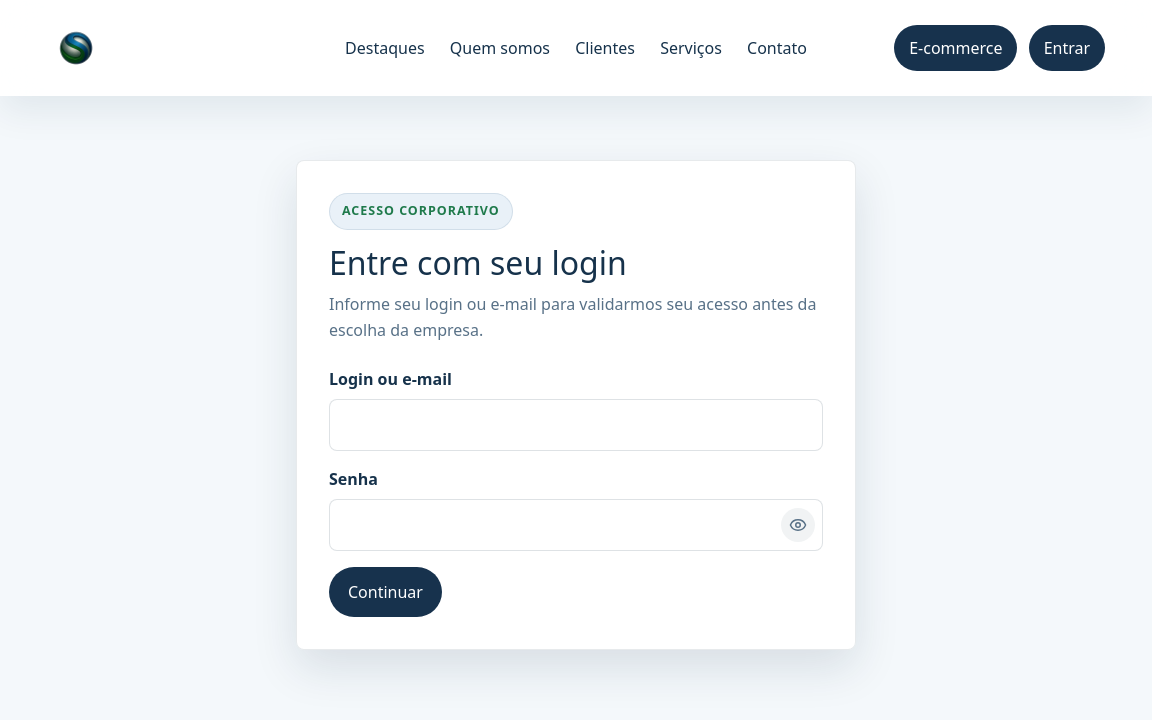
Scenario: autenticação no navegador › autentica, seleciona a empresa e abre o Hub
Step 1. Type "admin.cypress" into the field named "loginOrEmail" → point(576, 425), box [329, 399, 823, 451]
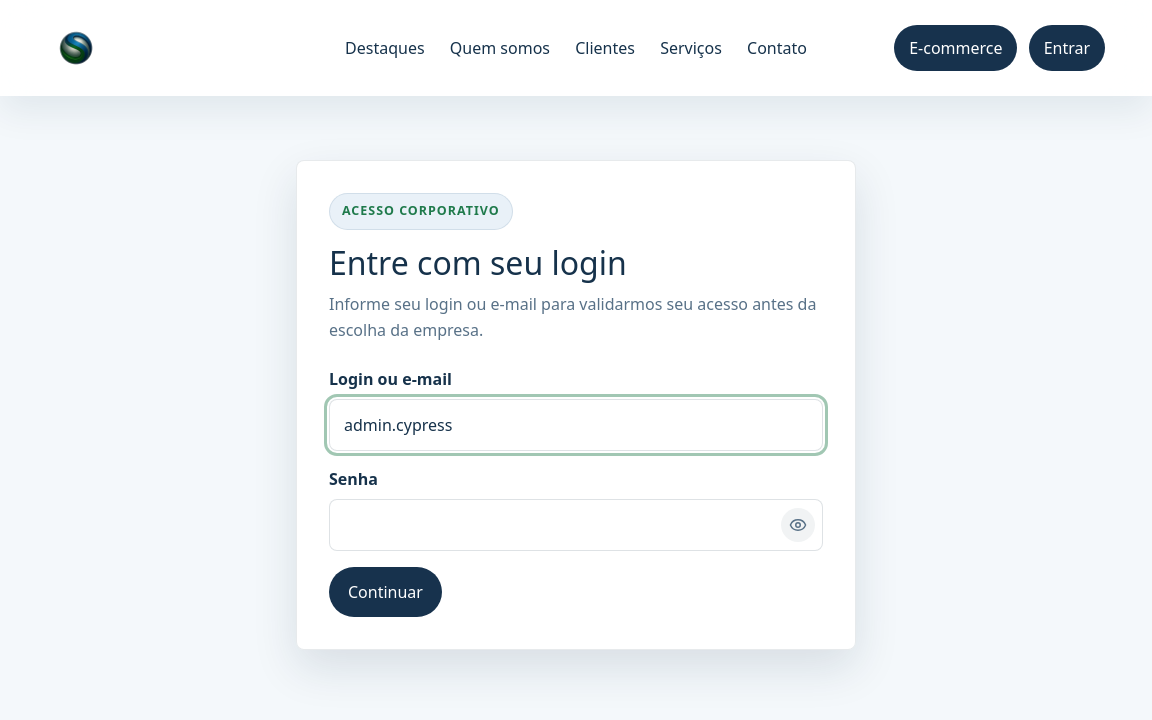
Step 2. Type "segredo-cypress" into the password field named "password" → point(576, 525), box [329, 499, 823, 551]
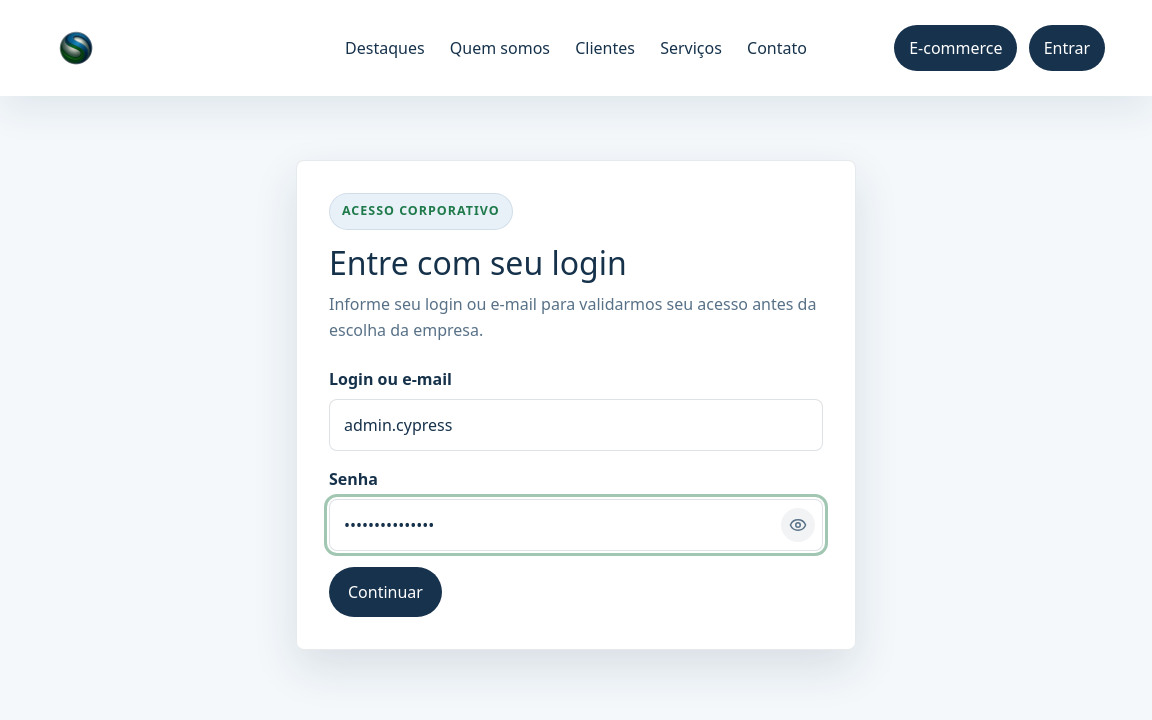
Step 3. Click the button "Continuar" → point(386, 592), box [329, 567, 442, 617]
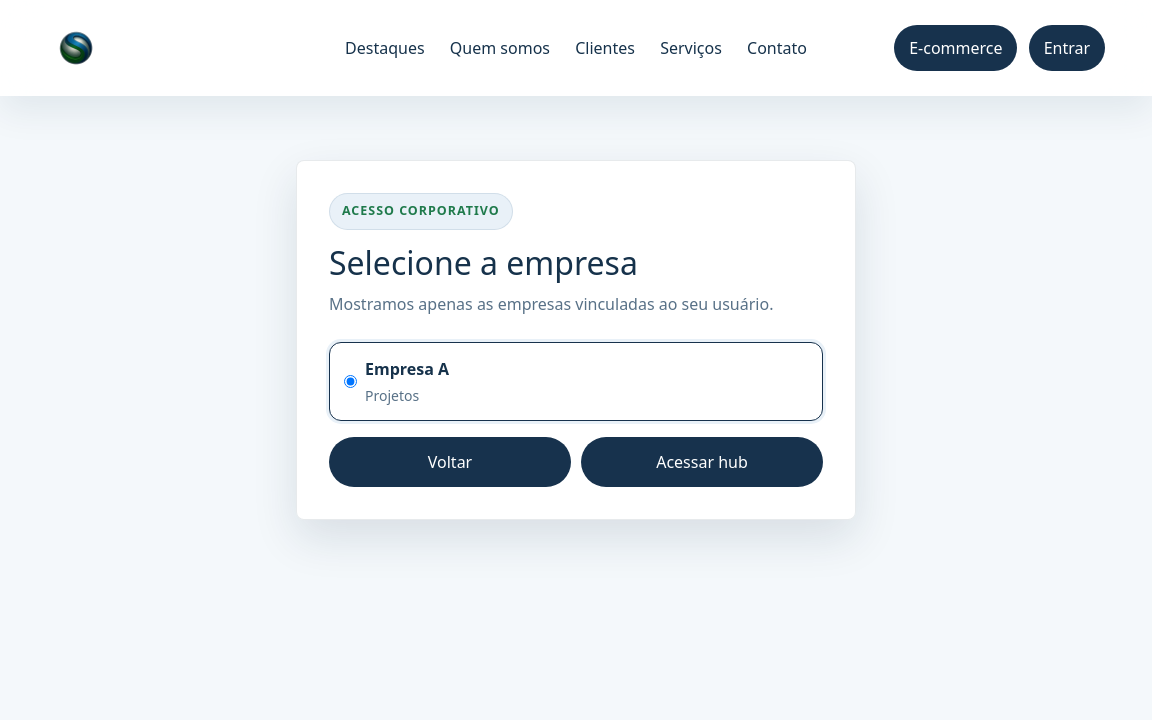
Result: the text "Empresa A" is shown at [365, 358, 449, 380]
Step 4. Click the button "Acessar hub" → point(702, 462), box [581, 437, 823, 487]
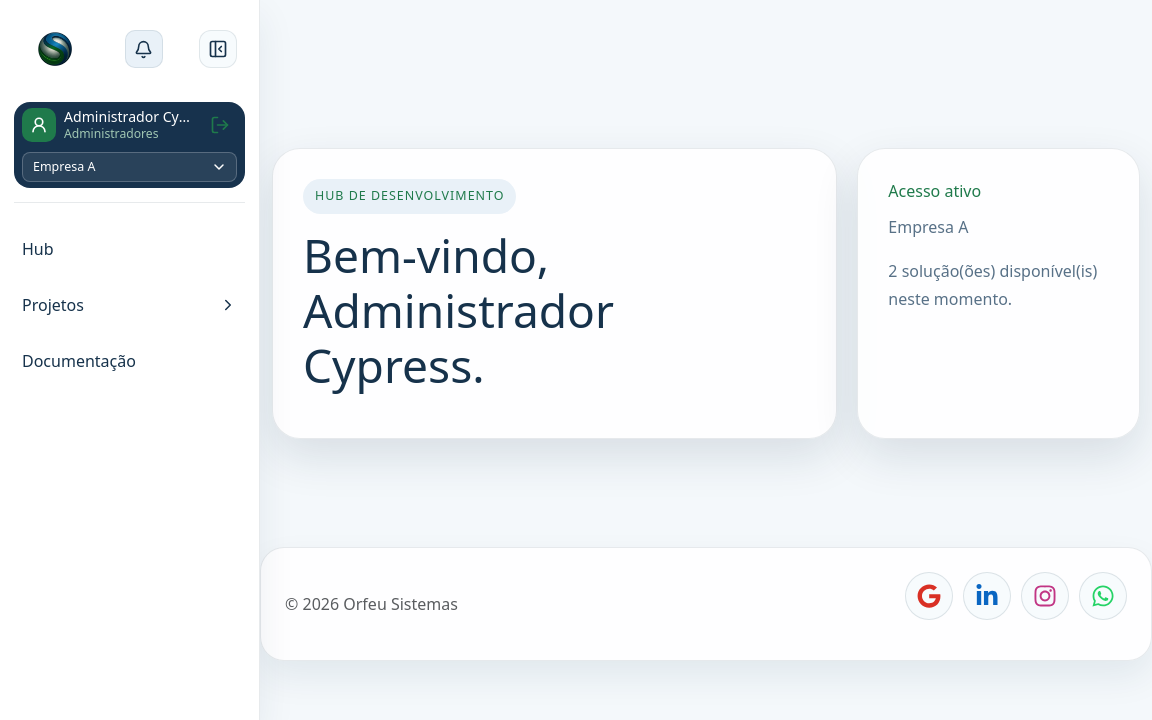
Result: the heading "Bem-vindo, Administrador Cypress." is shown at [303, 224, 614, 397]
